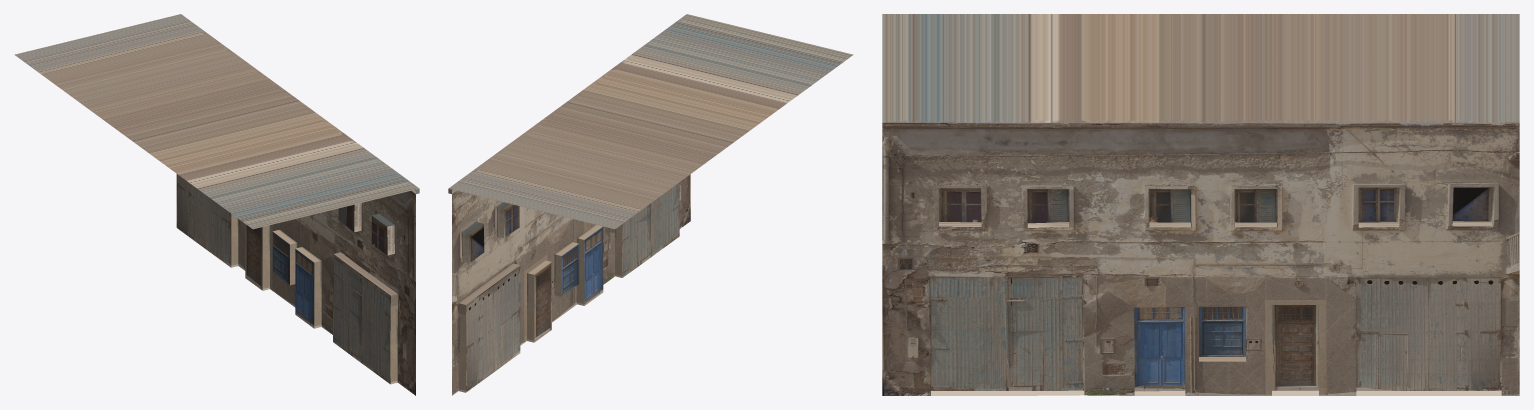
The model's file is EdificioPequeño.fbx.
The picture shows the model from 3 angles, left to right: view 1: azimuth 30°, elevation 25°; view 2: azimuth 150°, elevation 25°; view 3: azimuth 270°, elevation 25°; orthographic projection. The views are drawn at different scales.
Visible parts, largest first — view 1: Plane.003; view 2: Plane.003; view 3: Plane.003.
Part boxes in pixels (x1,y1,x2,y2): Plane.003: (14, 14, 419, 395); Plane.003: (448, 14, 853, 395); Plane.003: (882, 14, 1519, 395).
Size of the model in its own units: 23.35 by 27.61 by 57.83.
2 materials, 2 textured.
